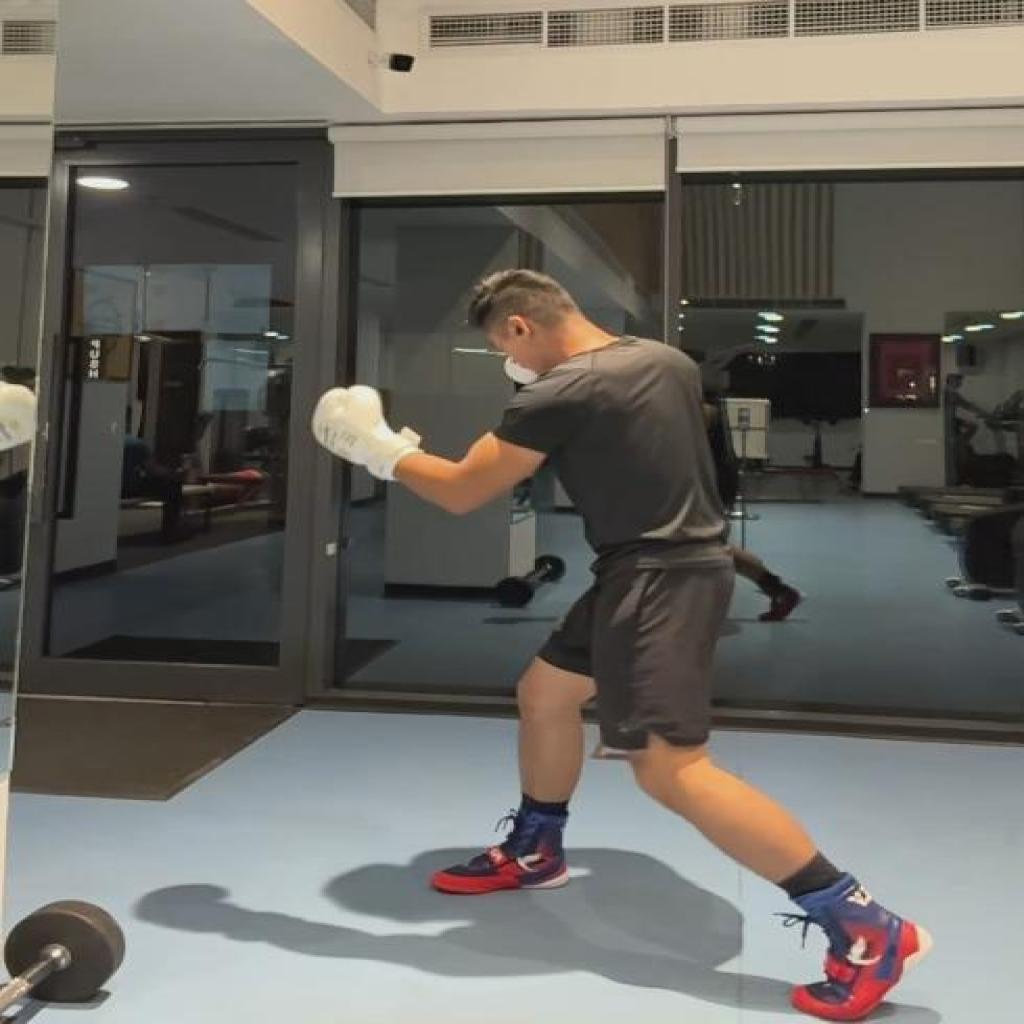uppercut: (278, 238, 953, 1024)
